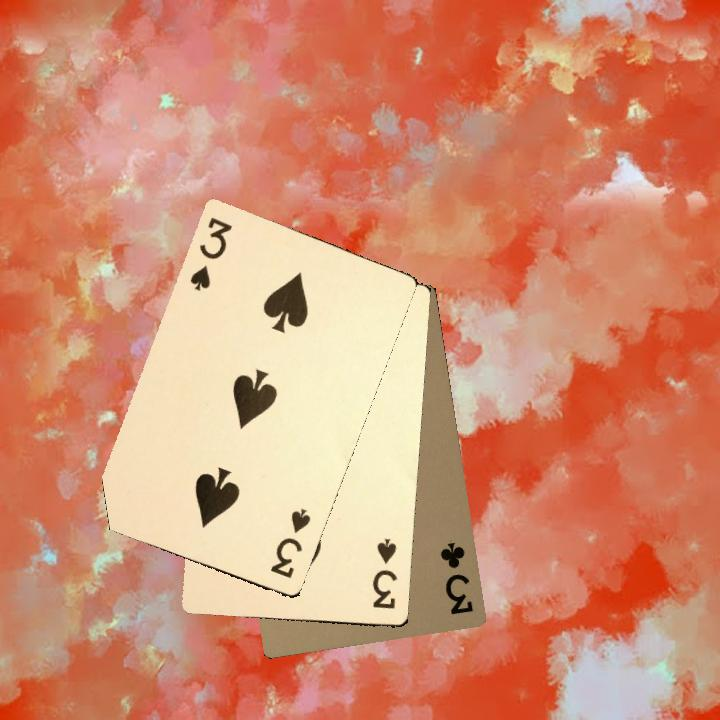3c: (436, 538, 476, 618)
3s: (186, 213, 235, 293), (266, 504, 313, 581), (368, 534, 400, 611)
